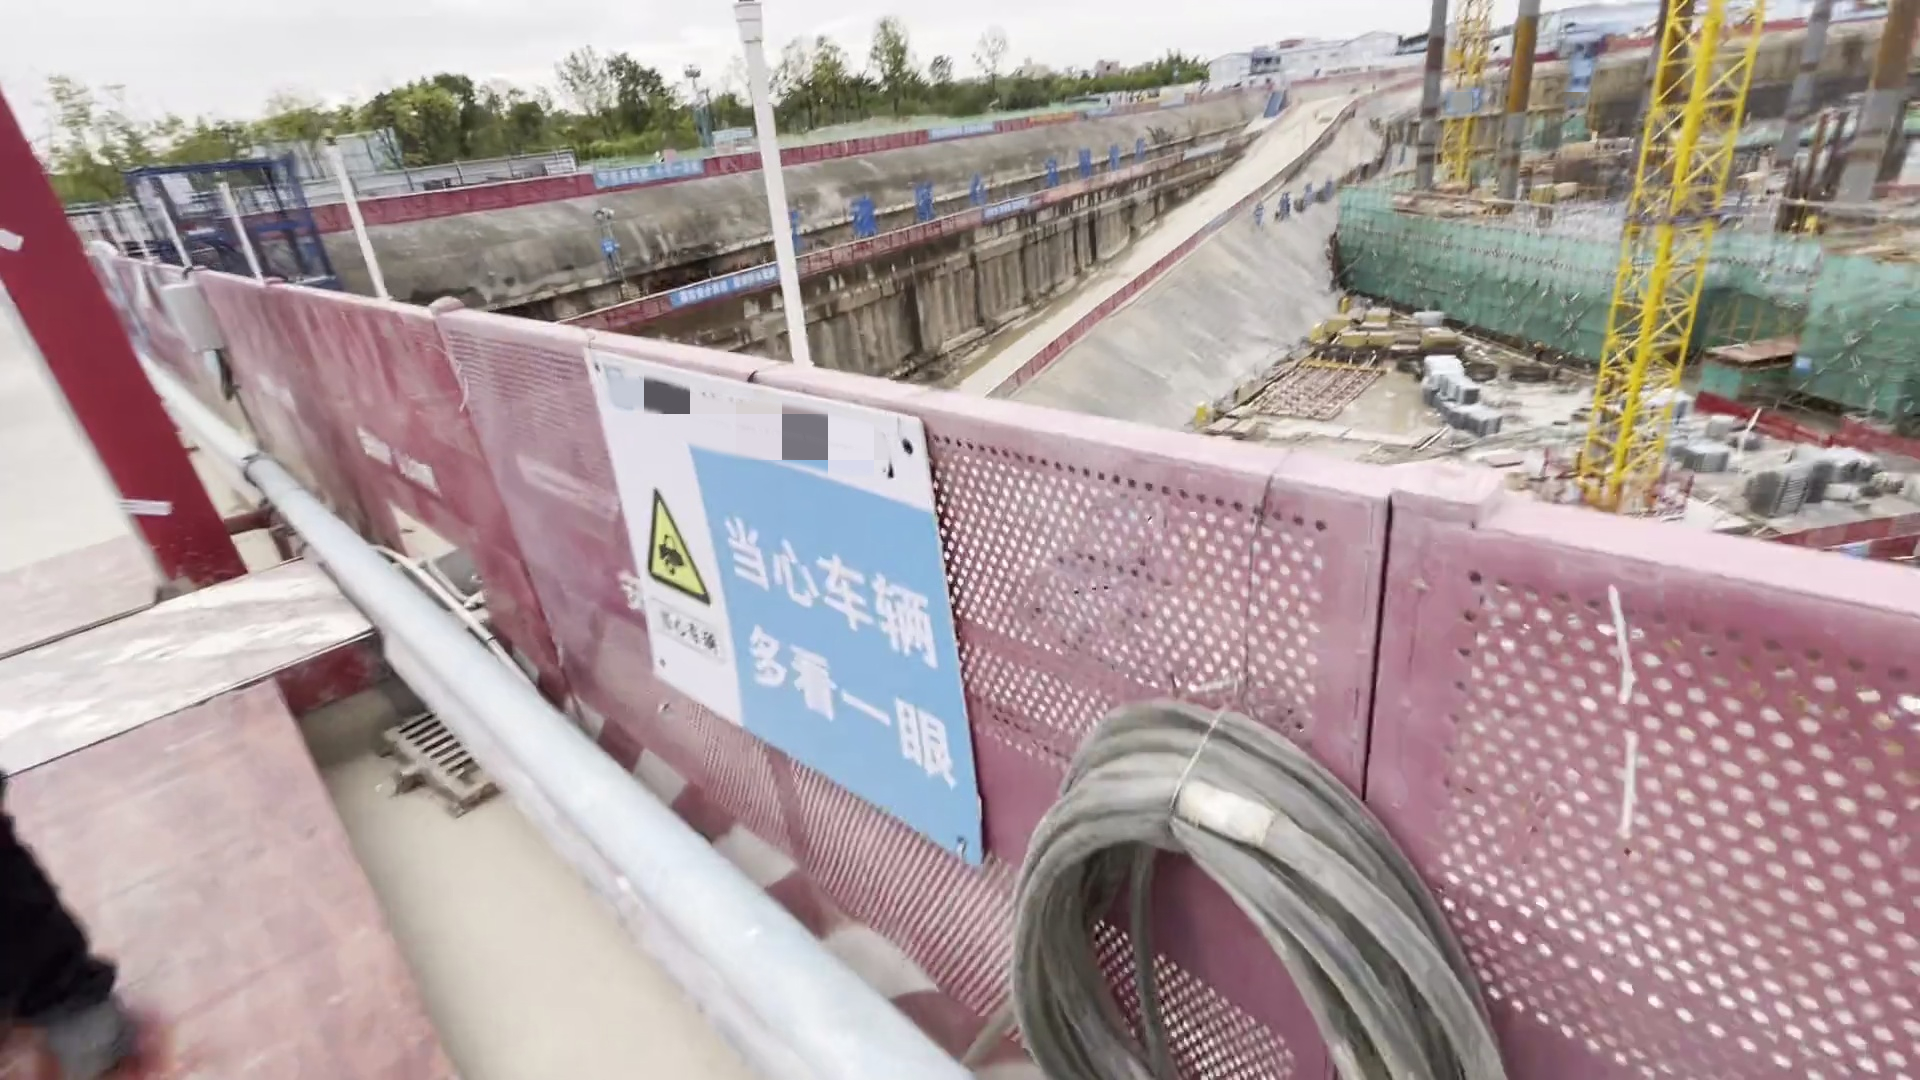fence: (258, 289, 1915, 1077)
